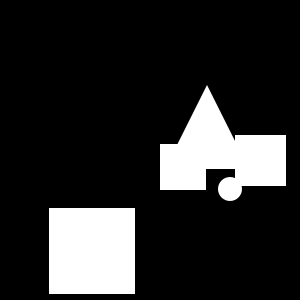circle: (49, 208, 135, 294), (235, 135, 286, 186), (160, 144, 206, 190)
rectangle: (218, 177, 242, 201)
triangle: (165, 85, 249, 169)
